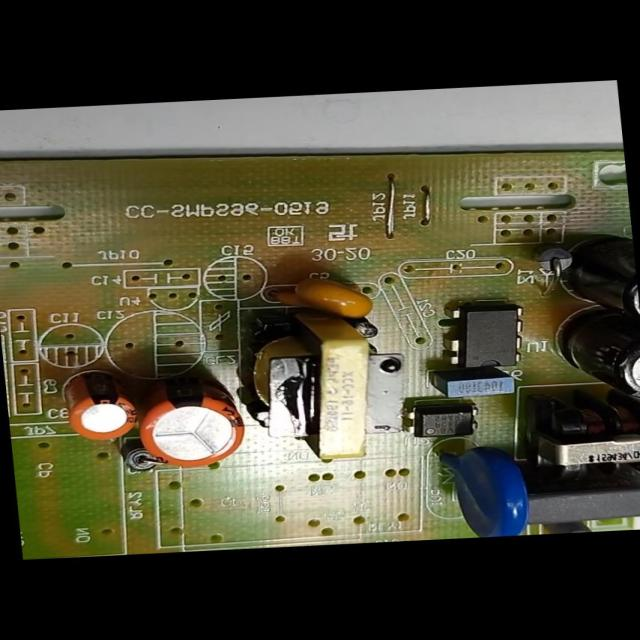Cap1: (135, 373, 246, 471)
Cap2: (60, 372, 138, 441)
Cap3: (566, 334, 639, 410)
Cap4: (563, 234, 639, 334)
MOSFET: (444, 304, 529, 370)
Mov: (440, 442, 530, 538)
Resistor: (540, 520, 594, 534)
Transformer: (229, 299, 412, 465), (534, 409, 639, 482)
